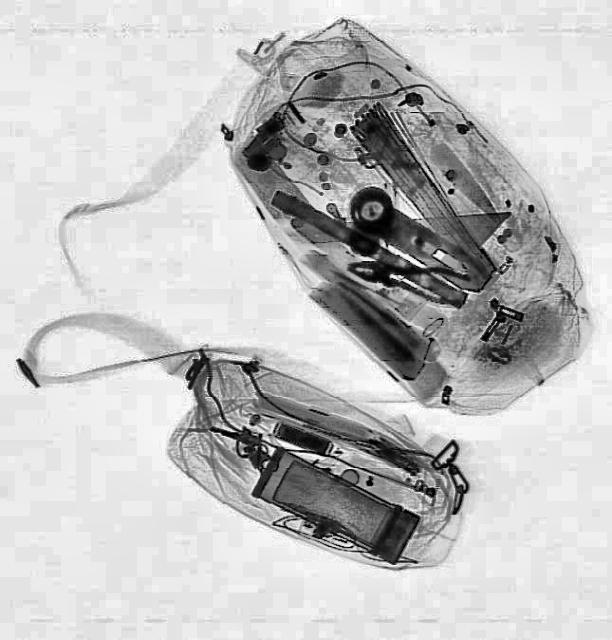Pliers: (342, 246, 469, 308)
